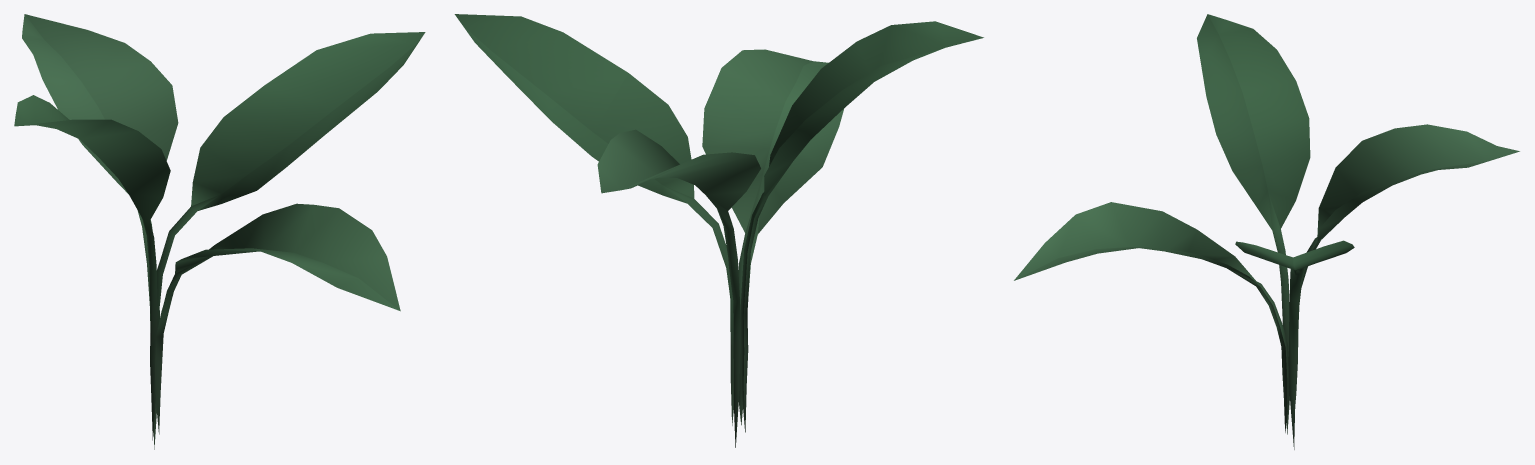
Rendered from plants-leafy-plants-broadleaf-plant_v12.glb.
3 views of the same model, side by side, from view 1: azimuth 30°, elevation 25°; view 2: azimuth 150°, elevation 25°; view 3: azimuth 270°, elevation 25° (orthographic). The views are drawn at different scales.
Parts seen in each view (by area): view 1: Broadleaf Plant_v12; view 2: Broadleaf Plant_v12; view 3: Broadleaf Plant_v12.
Boxes of the visible parts, x1,y1,x2,y2 form: Broadleaf Plant_v12: [14, 14, 425, 449]; Broadleaf Plant_v12: [454, 14, 983, 447]; Broadleaf Plant_v12: [1014, 14, 1519, 449].
Bounding box in the file's own units: 0.5501 × 0.4648 × 0.6.
